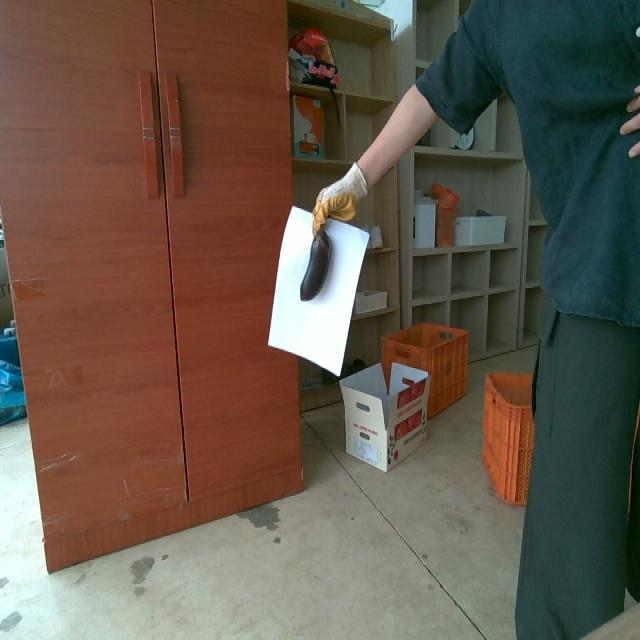Egg plant: (300, 229, 331, 300)
